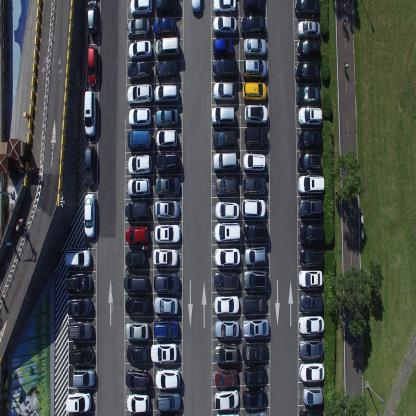car: (83, 88, 97, 136), (126, 83, 153, 107), (154, 270, 180, 294), (296, 129, 323, 152), (150, 341, 178, 363), (297, 174, 325, 196), (241, 268, 268, 290), (65, 391, 92, 413), (64, 272, 92, 293), (125, 368, 150, 391), (297, 338, 323, 360), (154, 175, 180, 197), (126, 129, 152, 151), (154, 368, 180, 390), (156, 390, 182, 412), (124, 319, 150, 341), (126, 60, 152, 82), (154, 36, 180, 58), (212, 58, 238, 80), (240, 15, 266, 37), (299, 223, 325, 245), (154, 223, 181, 244), (214, 221, 241, 242), (242, 317, 269, 338), (84, 192, 96, 239), (87, 44, 100, 87), (126, 199, 150, 222), (127, 153, 151, 176), (155, 151, 179, 174), (214, 366, 238, 389), (297, 39, 321, 62), (212, 268, 237, 290), (154, 198, 179, 220), (298, 292, 323, 314), (154, 83, 179, 105), (154, 318, 179, 340), (214, 294, 239, 316), (214, 342, 239, 364), (214, 388, 239, 410), (297, 152, 322, 174), (214, 246, 240, 267), (66, 295, 92, 316), (242, 341, 268, 362), (212, 150, 238, 171), (64, 249, 91, 269), (295, 62, 318, 85), (127, 176, 151, 198), (212, 129, 236, 151), (210, 105, 234, 127), (124, 272, 148, 294), (126, 391, 150, 413), (126, 342, 150, 364), (243, 364, 267, 386), (128, 38, 152, 60), (243, 80, 267, 102), (244, 126, 268, 148), (242, 150, 266, 172), (152, 15, 177, 36), (243, 37, 268, 58), (297, 316, 323, 336), (68, 344, 94, 364), (243, 223, 269, 243), (241, 294, 267, 314), (212, 16, 238, 36), (241, 198, 267, 218), (242, 59, 268, 79), (298, 268, 324, 288), (297, 199, 324, 218), (214, 175, 237, 197), (155, 59, 178, 81), (214, 199, 238, 220), (154, 107, 178, 128), (124, 225, 148, 246), (154, 295, 178, 316), (212, 80, 236, 101), (242, 175, 266, 196), (293, 0, 321, 18), (298, 106, 322, 127), (298, 364, 323, 384), (153, 247, 178, 267), (126, 17, 151, 37), (296, 86, 321, 106), (85, 142, 96, 187), (214, 320, 240, 339), (244, 245, 267, 266), (67, 320, 91, 340), (128, 108, 152, 128), (297, 19, 321, 39), (242, 388, 267, 407), (299, 249, 324, 268), (125, 296, 151, 314), (155, 128, 177, 149), (212, 36, 233, 58), (71, 368, 95, 387), (244, 105, 268, 124), (86, 0, 99, 35), (302, 385, 323, 405), (128, 0, 152, 17), (125, 250, 147, 268), (154, 0, 180, 15), (212, 0, 237, 15), (242, 0, 266, 13), (297, 408, 324, 416), (191, 0, 203, 15), (245, 408, 267, 416), (215, 411, 241, 415)
